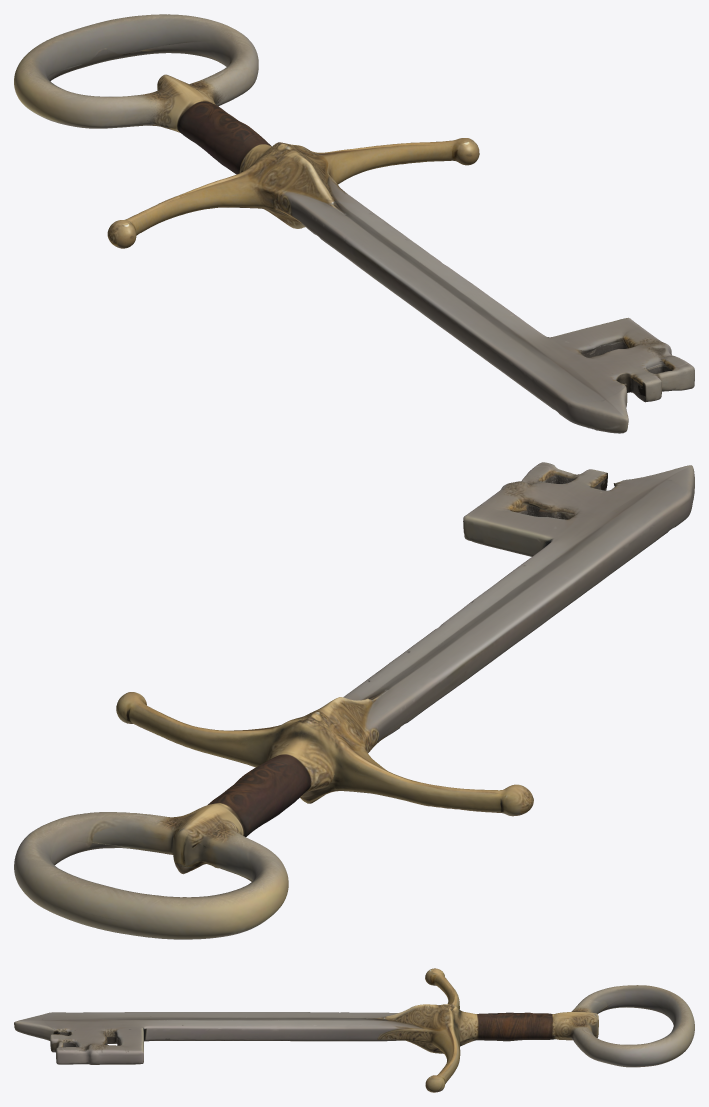
File: sword_key_0901065134_texture.fbx
3 renders of one model, top to bottom at view 1: azimuth 30°, elevation 25°; view 2: azimuth 150°, elevation 25°; view 3: azimuth 270°, elevation 25°, orthographic. The views are drawn at different scales.
Parts seen in each view (by area): view 1: input; view 2: input; view 3: input.
Part boxes in pixels (x1,y1,x2,y2): input: (14, 14, 694, 433); input: (14, 462, 694, 939); input: (14, 968, 694, 1092).
Bounding box in the file's own units: 78.83 × 15.95 × 199.
1 material, 1 textured.
